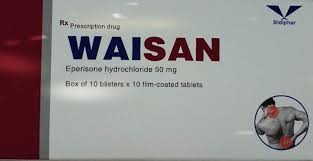Waisan: (63, 33, 223, 64)
